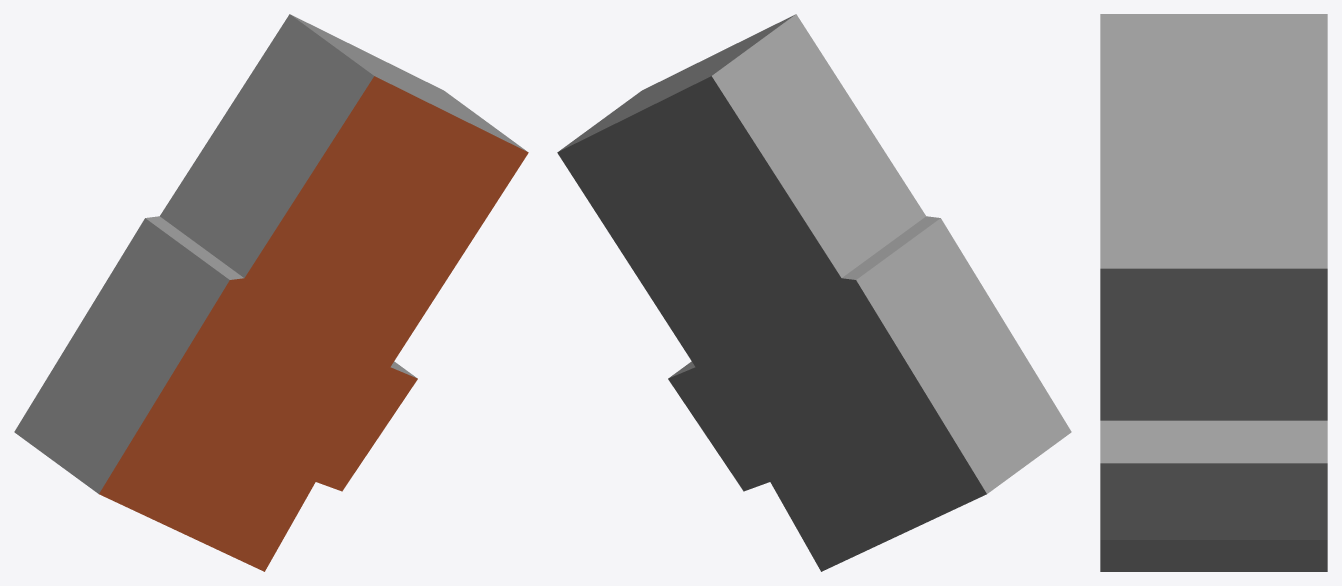
The model's file is construction_4831_assumed_A_Casa_h6m.obj.
The picture shows the model from 3 angles, left to right: view 1: azimuth 30°, elevation 25°; view 2: azimuth 150°, elevation 25°; view 3: azimuth 270°, elevation 25°; orthographic projection. The views are drawn at different scales.
Visible parts, largest first — view 1: construction_4831_assumed_A_Casa; view 2: construction_4831_assumed_A_Casa; view 3: construction_4831_assumed_A_Casa.
Part boxes in pixels (x1,y1,x2,y2): construction_4831_assumed_A_Casa: (14,14,528,571); construction_4831_assumed_A_Casa: (557,14,1071,571); construction_4831_assumed_A_Casa: (1100,14,1327,571).
Bounding box in the file's own units: 17.58 × 18.33 × 6.
